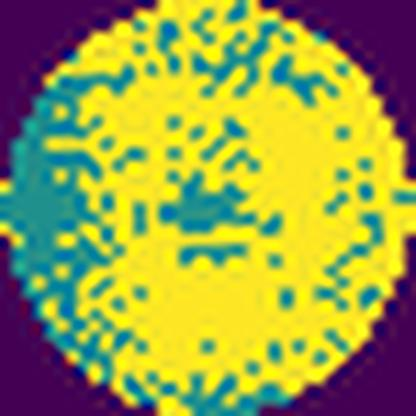Random: (41, 0, 415, 416)
